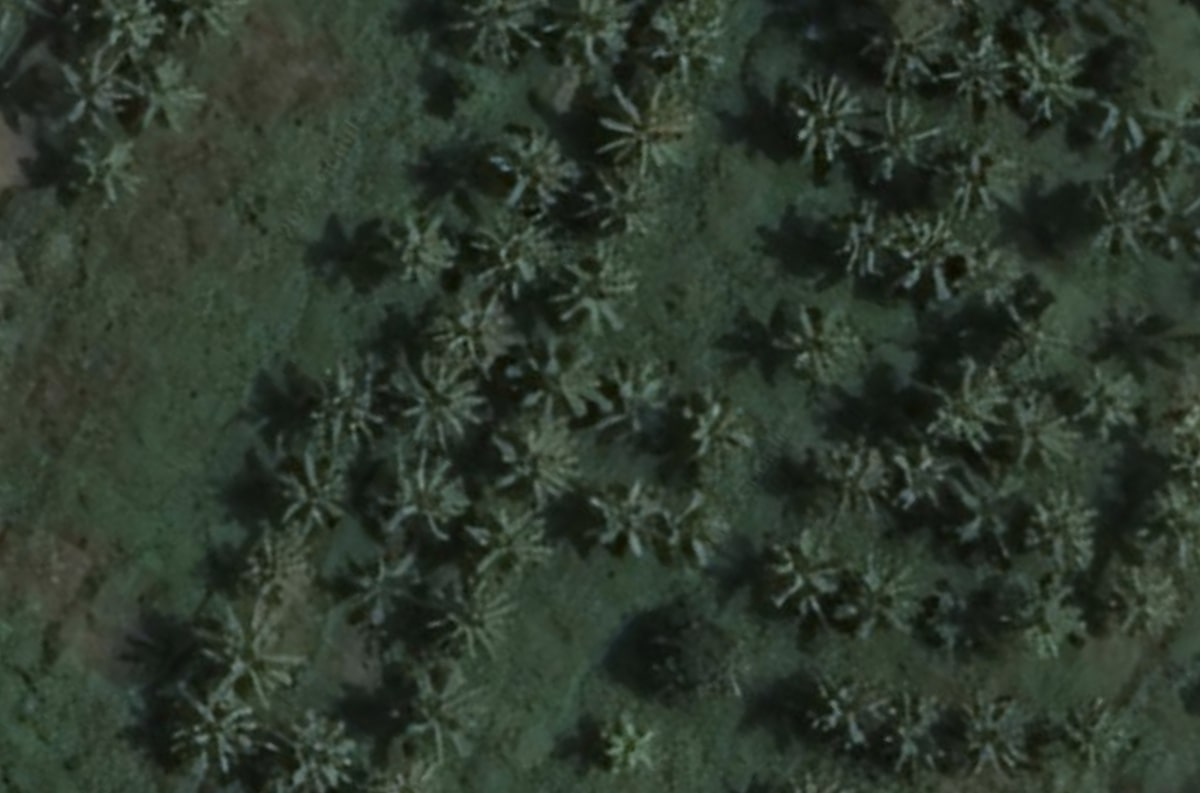coconut: (198, 598, 303, 699), (593, 80, 698, 180), (480, 399, 564, 519), (447, 501, 548, 581), (170, 686, 257, 777), (522, 338, 607, 425), (423, 290, 519, 367), (438, 561, 514, 657), (838, 543, 914, 638), (373, 459, 465, 536), (266, 437, 349, 522), (778, 305, 860, 391), (595, 340, 671, 432), (550, 257, 636, 338), (927, 350, 1001, 444), (662, 397, 758, 469), (490, 131, 572, 215), (462, 218, 548, 297), (800, 69, 866, 170), (894, 206, 968, 295), (1134, 459, 1200, 558), (997, 385, 1070, 472), (45, 49, 122, 131), (652, 489, 727, 573), (406, 362, 480, 447), (1100, 556, 1179, 633), (1021, 493, 1097, 573), (405, 666, 487, 740), (639, 4, 726, 73), (576, 479, 648, 561), (770, 530, 837, 618), (284, 718, 362, 793), (963, 703, 1027, 793), (818, 450, 894, 524), (1020, 36, 1086, 121), (962, 241, 1032, 321), (873, 695, 936, 782), (65, 138, 144, 206), (1014, 574, 1079, 656), (353, 549, 425, 622), (1062, 705, 1125, 786), (803, 672, 868, 750), (377, 218, 450, 287), (74, 1, 159, 59), (881, 458, 952, 527), (544, 0, 617, 67), (316, 369, 383, 442), (1084, 190, 1145, 268), (1080, 358, 1142, 434), (870, 22, 937, 92), (451, 0, 527, 61), (139, 67, 207, 135), (155, 1, 241, 54), (833, 201, 887, 283), (872, 94, 925, 176), (953, 37, 1009, 104), (255, 530, 311, 596), (605, 715, 664, 777), (1117, 109, 1176, 169)
